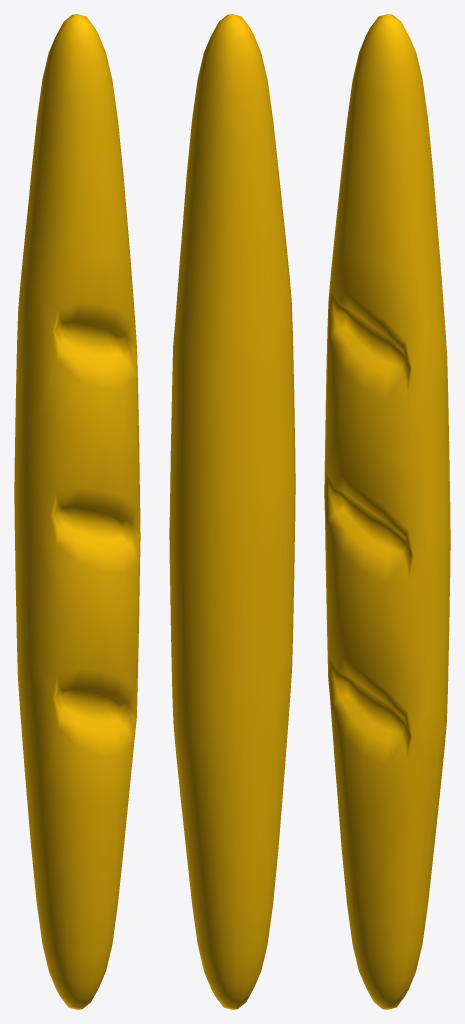
Rendered from Store_3_Baguette_1.glb.
3 renders of one model, left to right at view 1: azimuth 30°, elevation 25°; view 2: azimuth 210°, elevation 25°; view 3: azimuth 330°, elevation 25°, orthographic.
Visible parts, largest first — view 1: Store_3_Baguette_1; view 2: Store_3_Baguette_1; view 3: Store_3_Baguette_1.
Boxes of the visible parts, bbox=[...] form: Store_3_Baguette_1: bbox=[14, 14, 140, 1009]; Store_3_Baguette_1: bbox=[169, 14, 295, 1009]; Store_3_Baguette_1: bbox=[324, 14, 450, 1009].
Size of the model in its own units: 0.1393 by 1.19 by 0.1199.
Materials: 1 (1 with a texture image).
